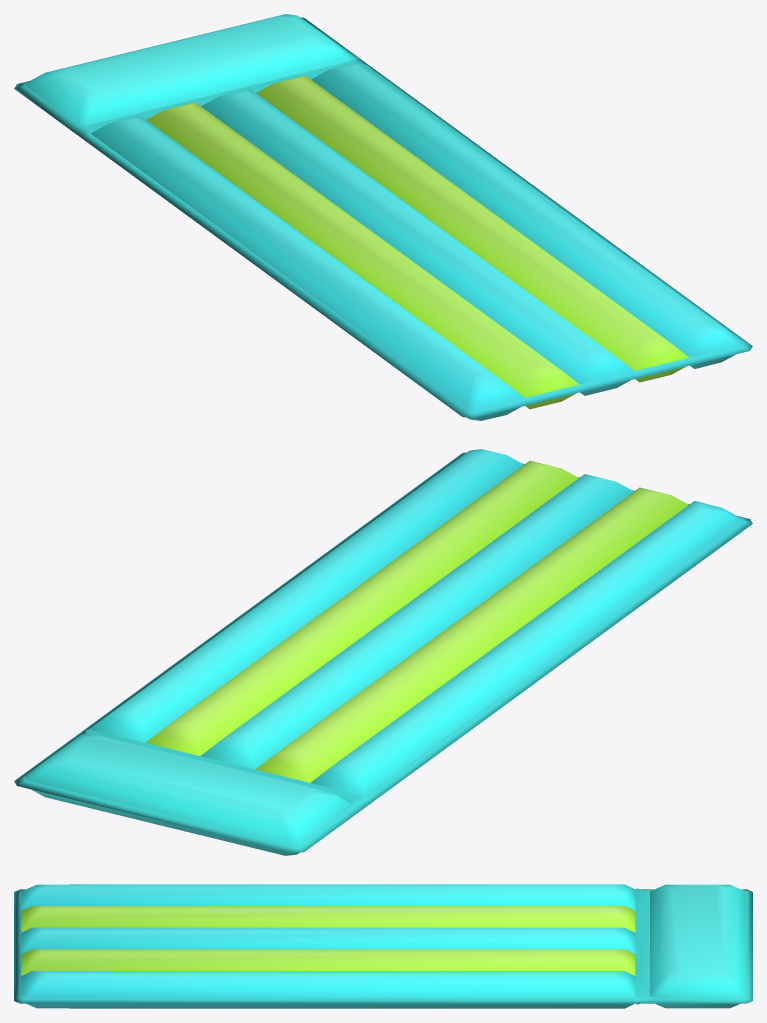
Rendered from Mattress_Stripes_A.fbx.
The picture shows the model from 3 angles, top to bottom: view 1: azimuth 30°, elevation 25°; view 2: azimuth 150°, elevation 25°; view 3: azimuth 270°, elevation 25°; orthographic projection. The views are drawn at different scales.
Parts seen in each view (by area): view 1: Mattress_Stripes_A; view 2: Mattress_Stripes_A; view 3: Mattress_Stripes_A.
Part boxes in pixels (box(x1,y1,x2,y2)): Mattress_Stripes_A: box(14, 14, 752, 420); Mattress_Stripes_A: box(14, 449, 752, 855); Mattress_Stripes_A: box(14, 884, 752, 1008).
Bounding box in the file's own units: 79.6 × 10.83 × 217.
